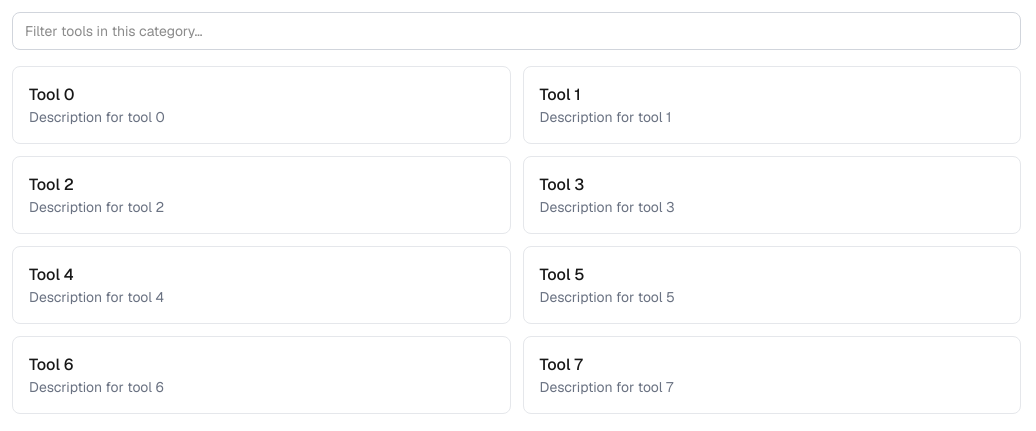
Test: CategoryToolFilter › shows a no-results message instead of an empty list
This screenshot has width=1036, height=431.
In the search field with placeholder "Filter tools in this category…": {"x": 516, "y": 31} [12,12,1021,50], type "nonexistent"
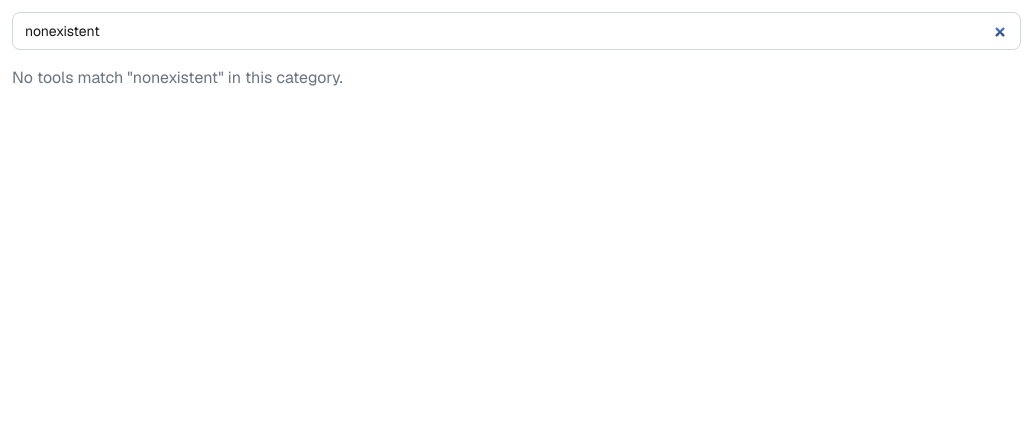
Expected: the text "No tools match \"nonexistent\" in this category." is shown, [12,67,343,88]
